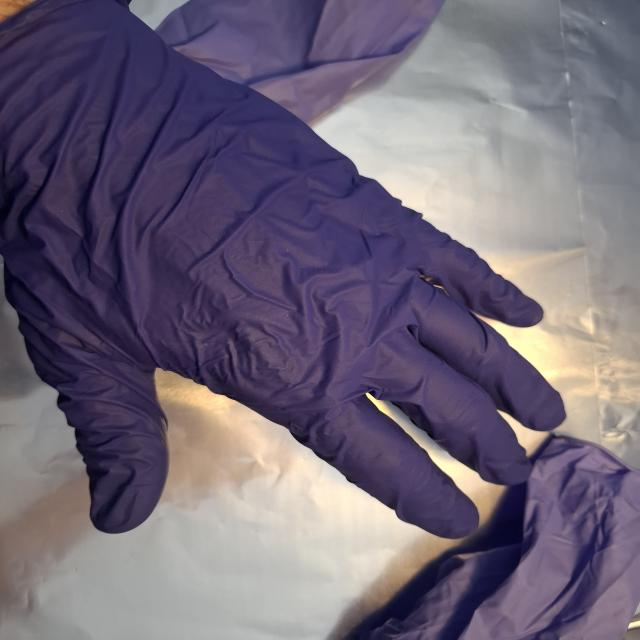glove_on: (0, 5, 572, 542)
